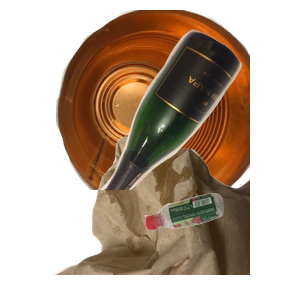glass: (87, 27, 300, 207)
metal: (53, 10, 293, 190)
plastic: (142, 191, 300, 300)
trash: (52, 120, 292, 300)
